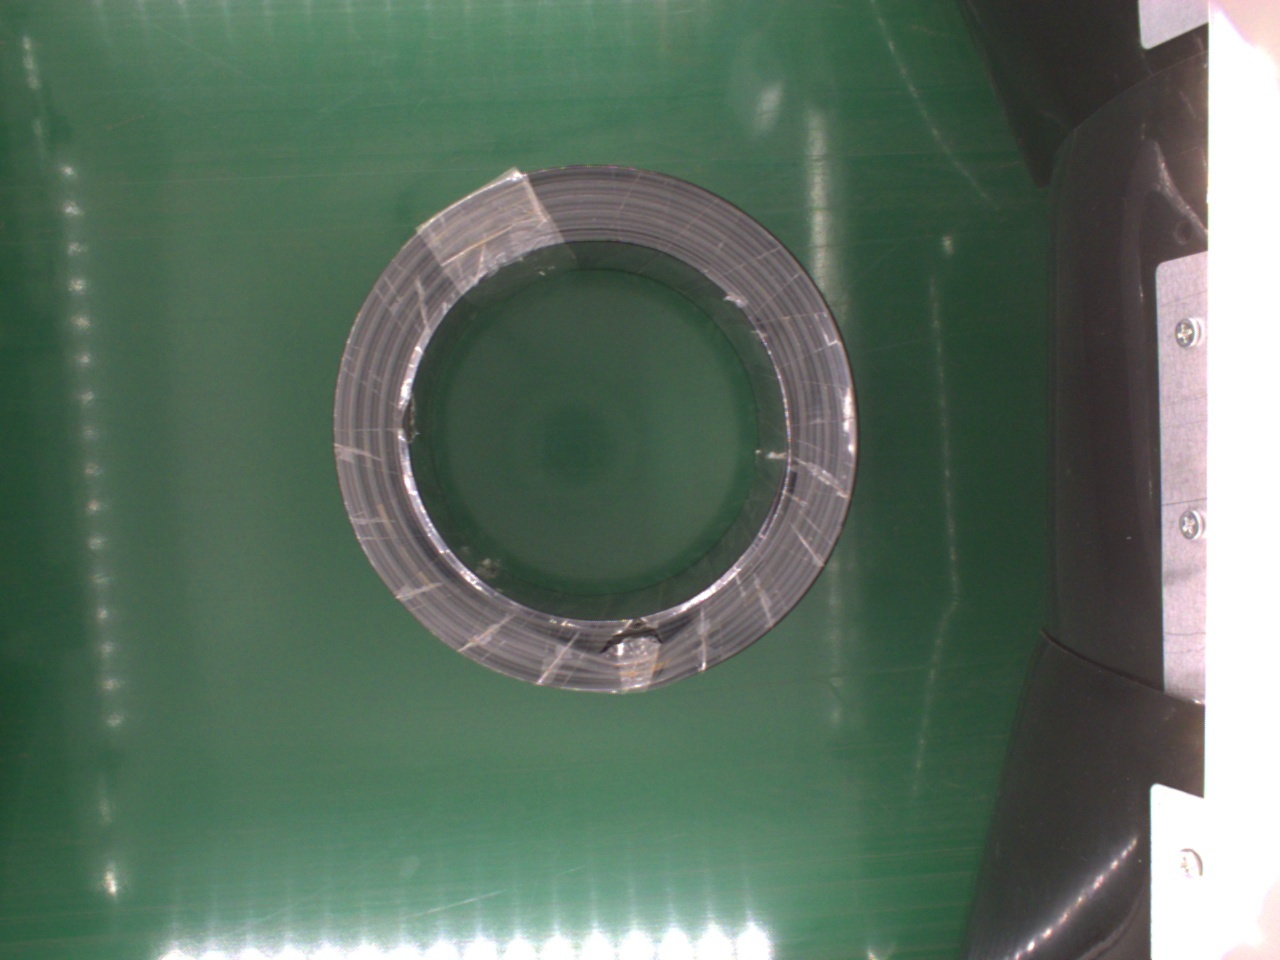black: (334, 167, 859, 702)
